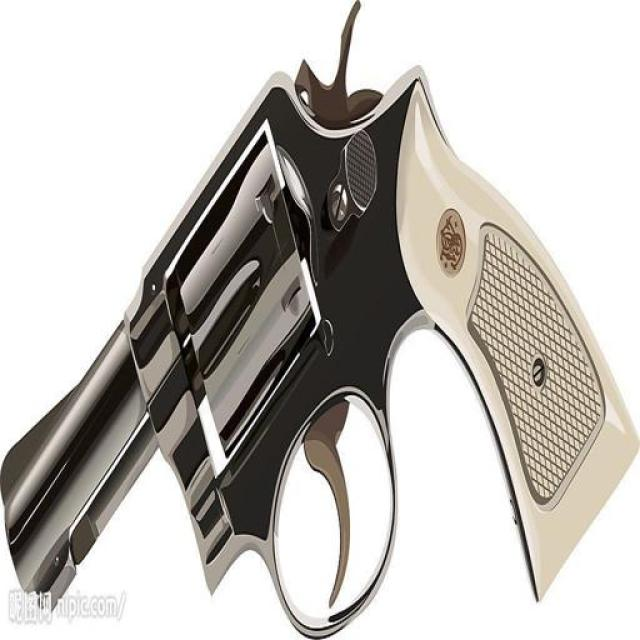pistol: (2, 1, 636, 637)
